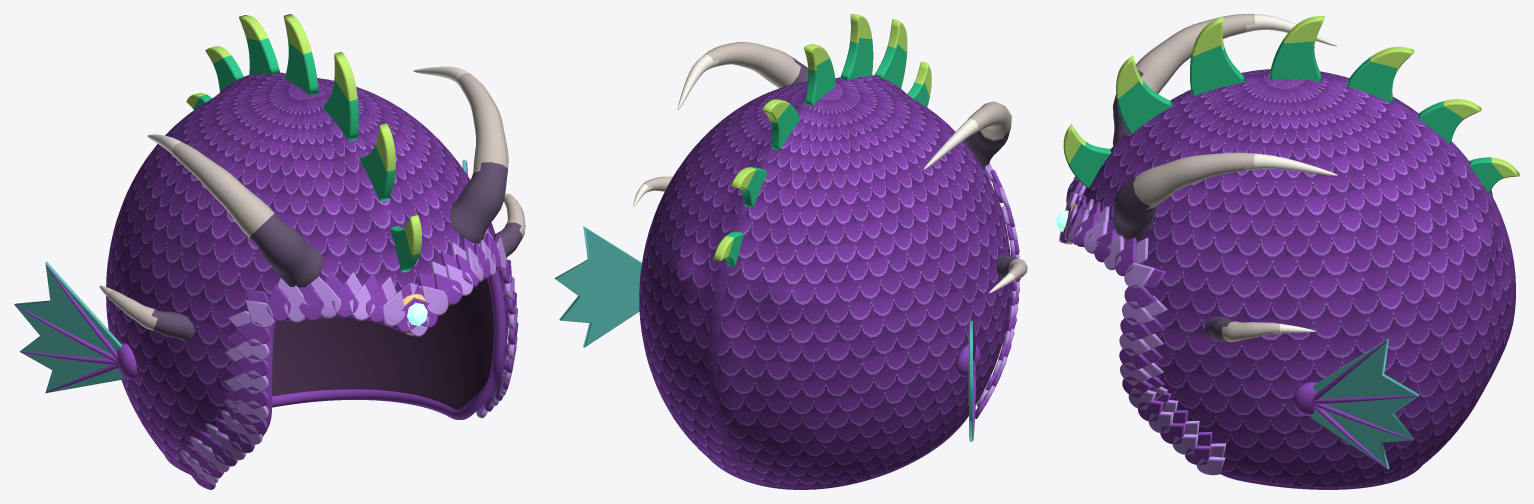
The model's file is dragon.glb.
3 renders of one model, left to right at view 1: azimuth 30°, elevation 25°; view 2: azimuth 150°, elevation 25°; view 3: azimuth 270°, elevation 25°, orthographic. The views are drawn at different scales.
Visible parts, largest first — view 1: dragon_body, dragon_fin_L_mesh; view 2: dragon_body, dragon_fin_R_mesh, dragon_fin_L_mesh; view 3: dragon_body, dragon_fin_R_mesh.
Boxes of the visible parts, box(x1,y1,x2,y2) form: dragon_body: box(99, 14, 525, 489); dragon_fin_L_mesh: box(14, 261, 124, 393); dragon_body: box(633, 14, 1027, 489); dragon_fin_R_mesh: box(554, 226, 641, 347); dragon_fin_L_mesh: box(968, 320, 975, 441); dragon_body: box(1059, 14, 1519, 489); dragon_fin_R_mesh: box(1310, 338, 1419, 469).
Bounding box in the file's own units: 1.78 × 1.64 × 1.58.
12 materials, 1 textured.
